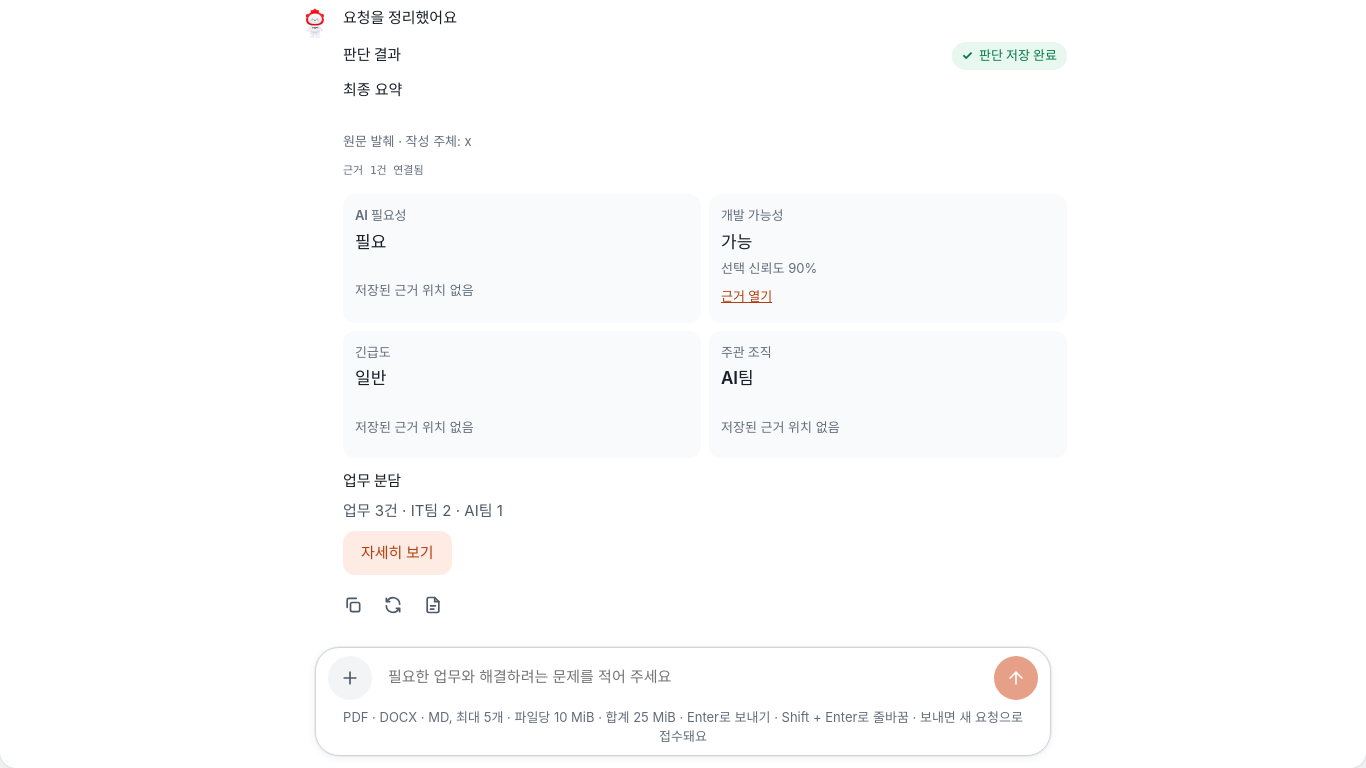
Scenario: ChatGPT-style conversation › copy puts the summary, the four classifications and the task split on the clipboard
The width and height of the screenshot is (1366, 768).
(page scrolled)
Click the button named "답변 복사".
click(353, 605)  # box [335,587,371,623]
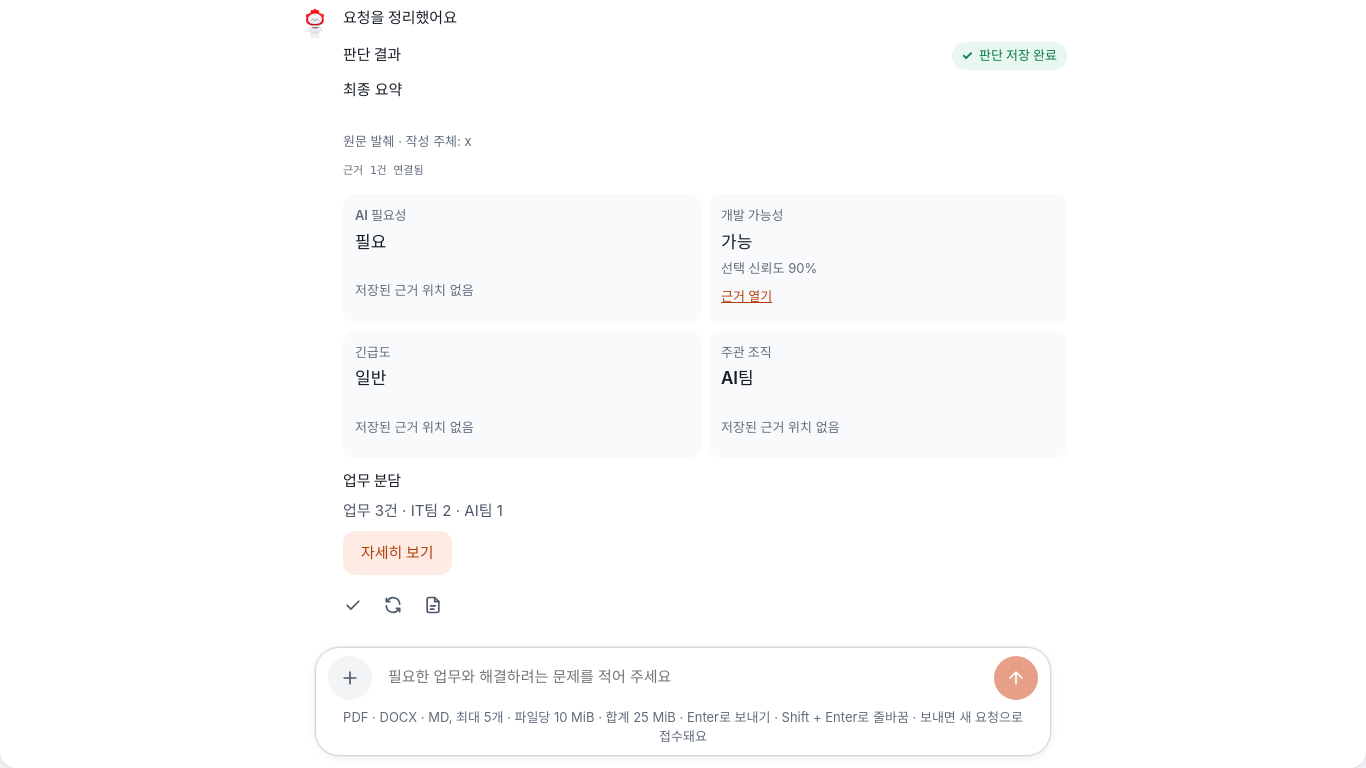
Now the button named "복사됨" is shown, box [335,587,371,623]
